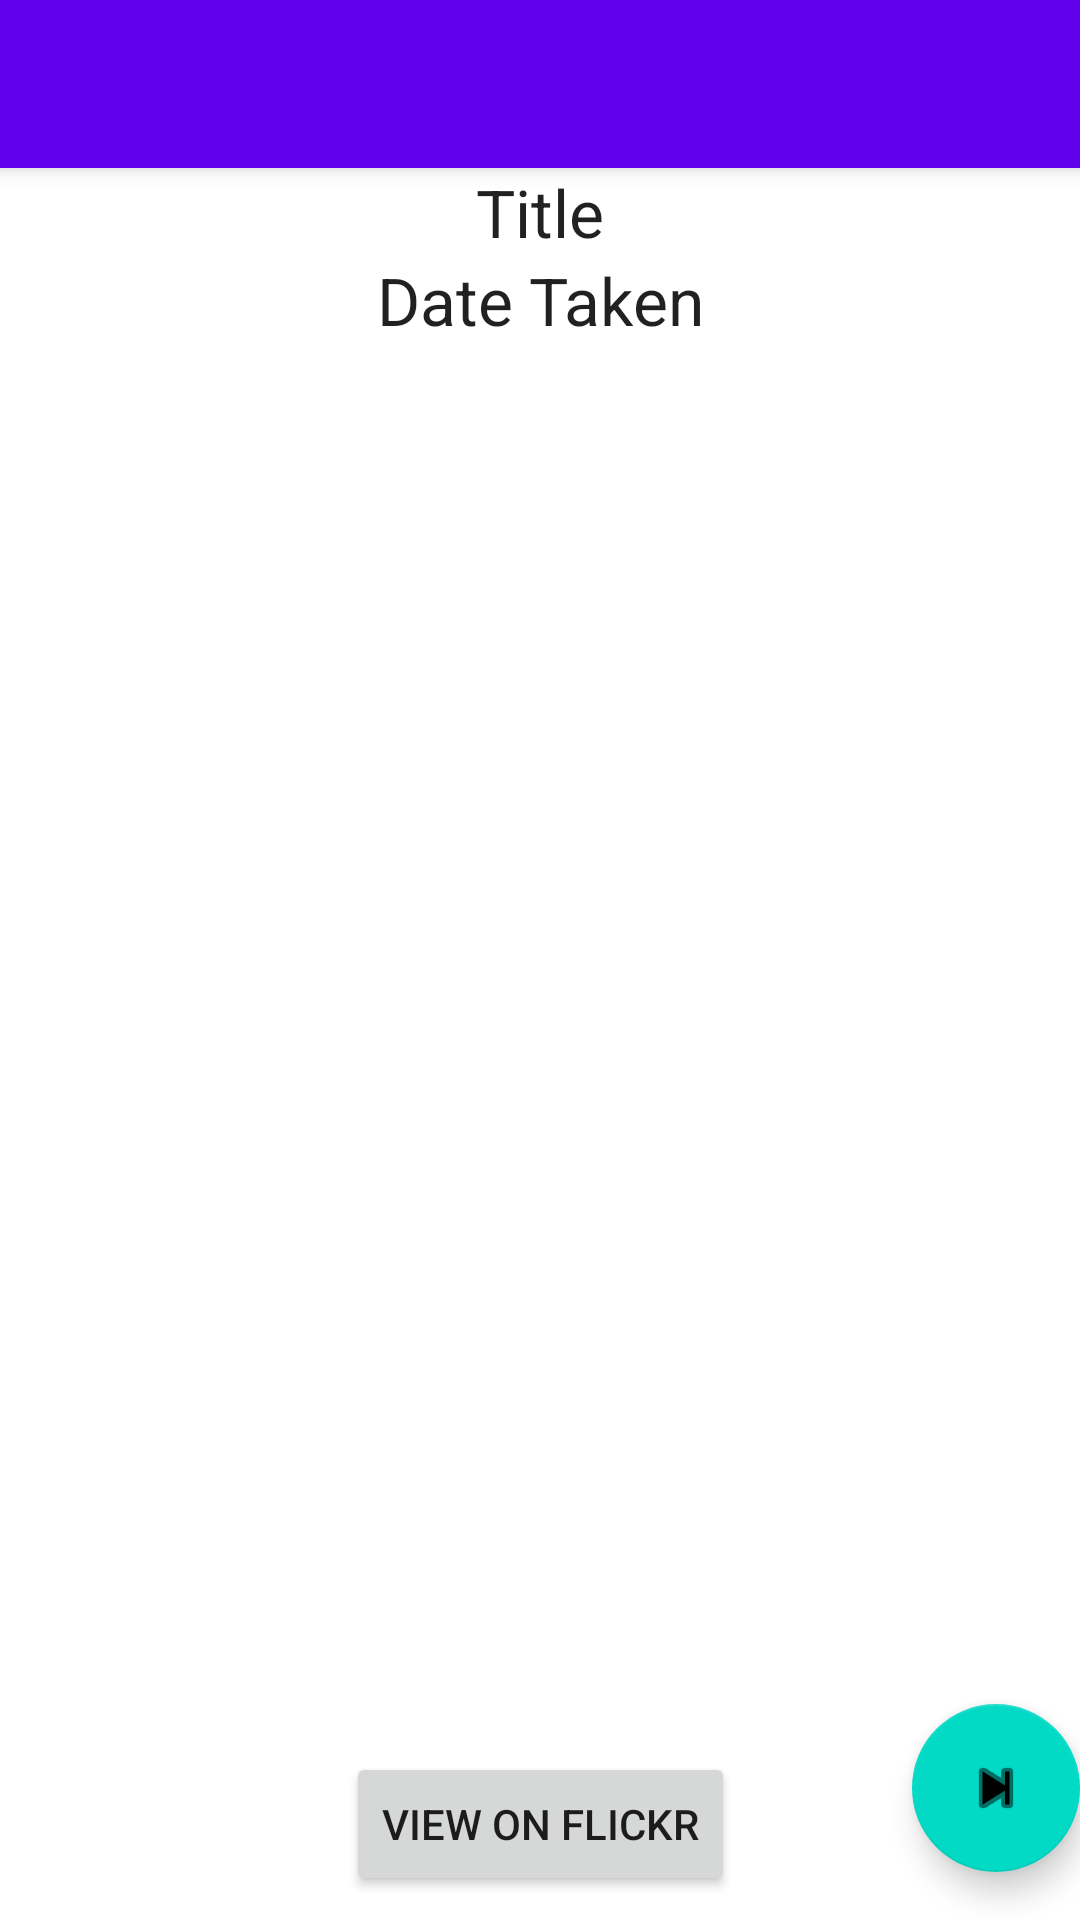

Icon click points for this 1080px×1920px phone screenshot, format point (x, y):
next: point (996, 1788)
